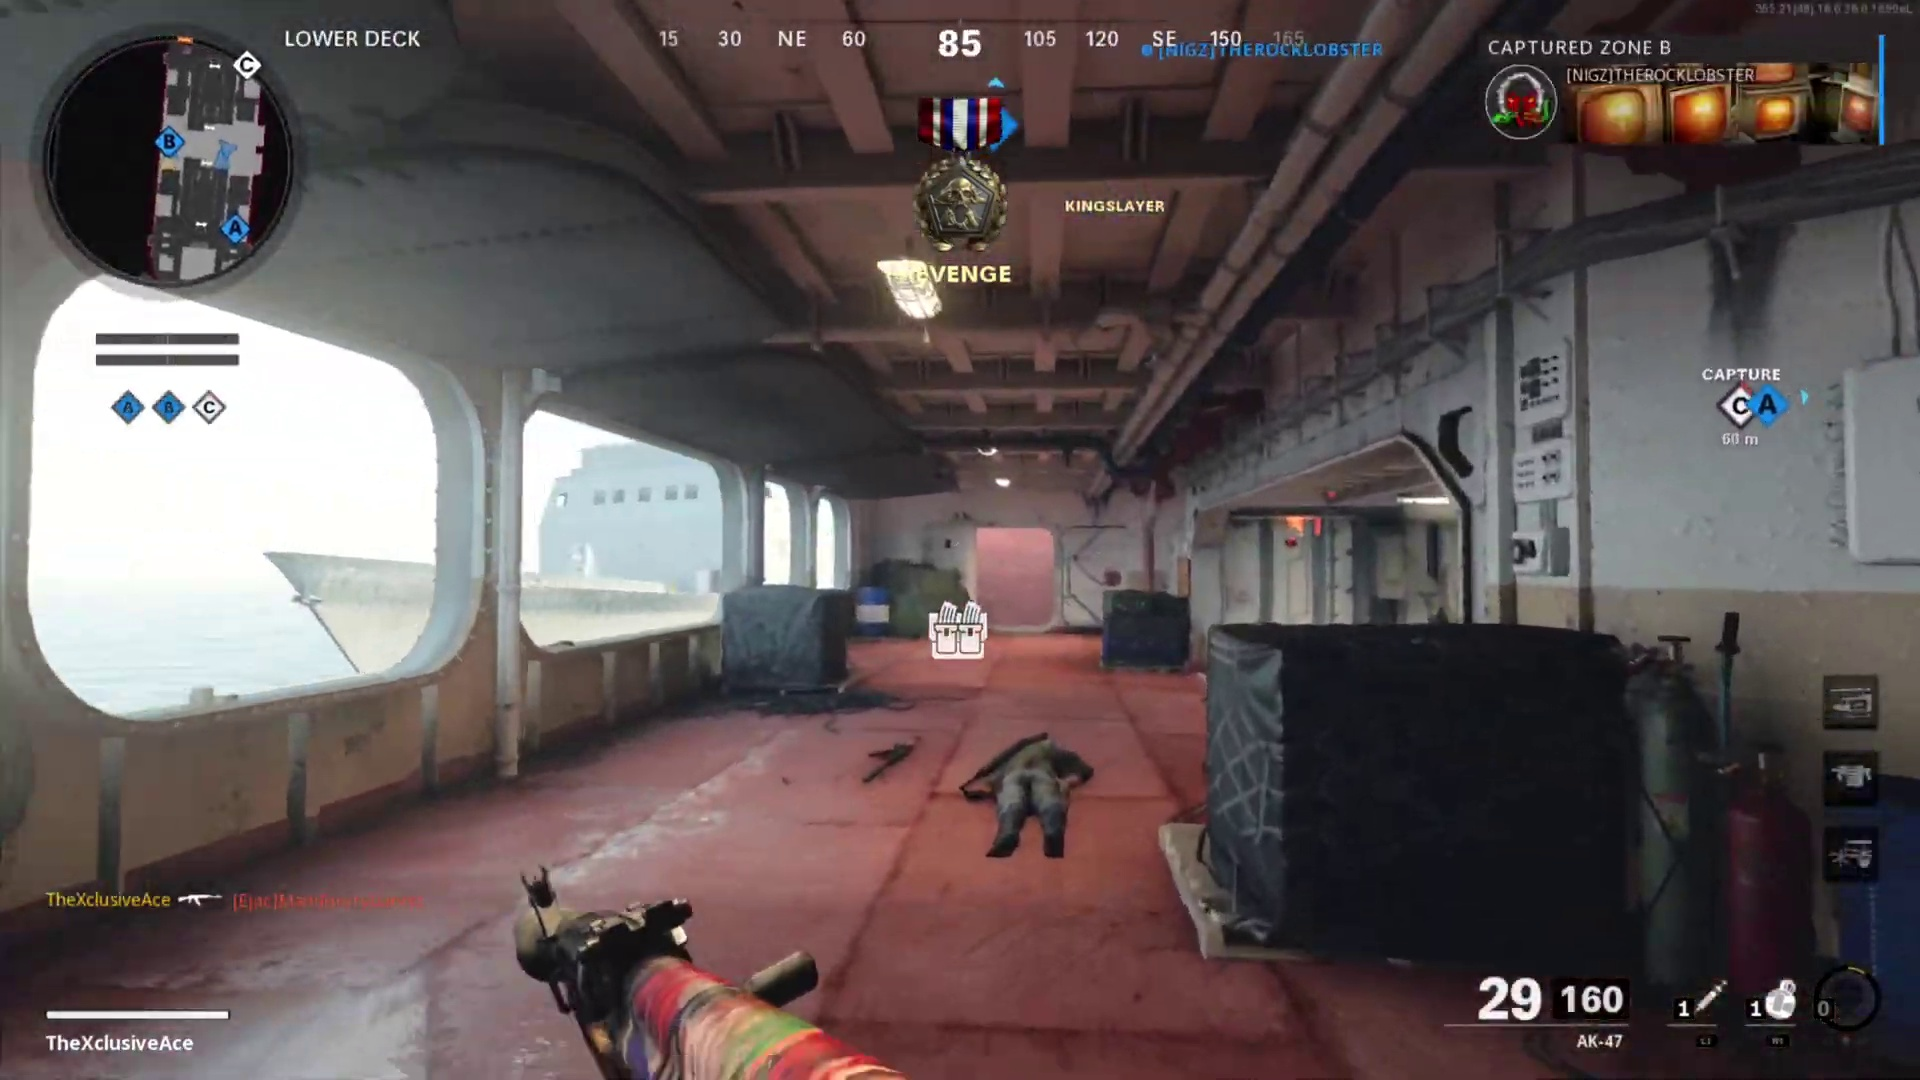person: (956, 733, 1094, 860)
